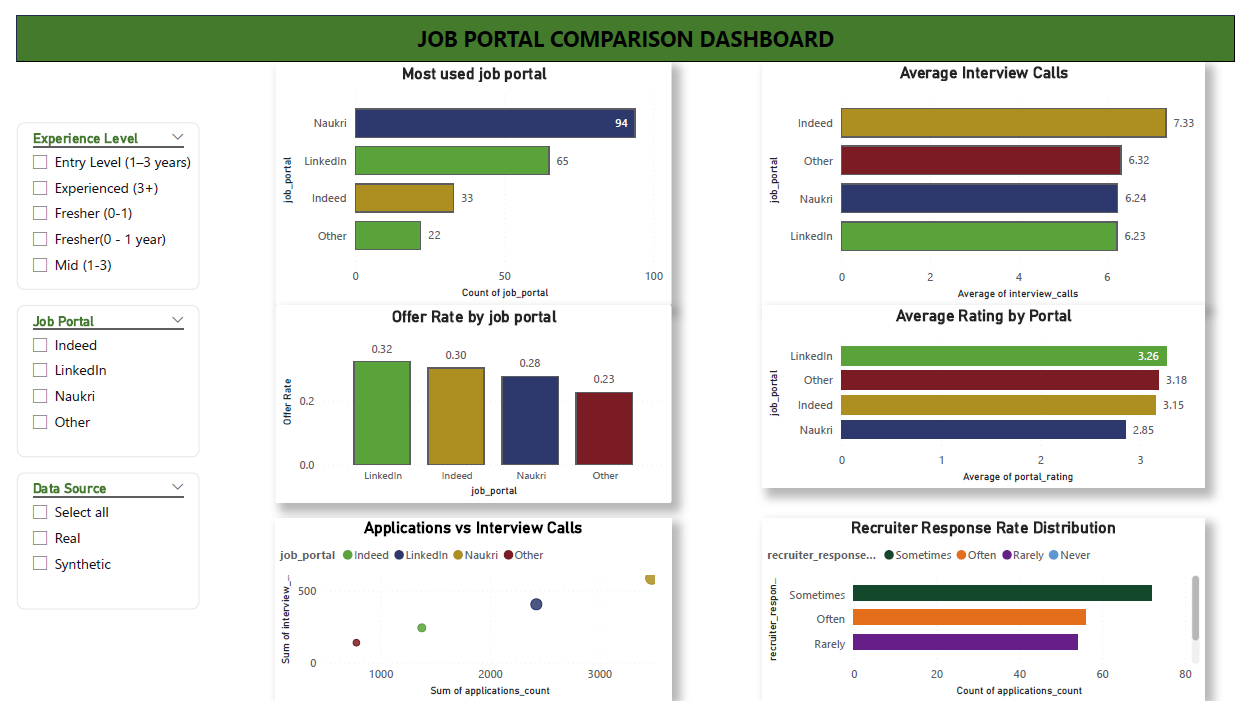

The dashboard page shown, as its layout file describes it:
{"tool":"powerbi","page":{"name":"Page 1","canvas":[1280,720],"ordinal":0},"visuals":[{"type":"clusteredBarChart","title":"Most used job portal","fields":{"Category":["job_portal_real_plus_synthetic.job_portal"],"Y":["CountNonNull(job_portal_real_plus_synthetic.job_portal)"]},"box":[272,48,416,256],"z":0},{"type":"clusteredBarChart","title":"Average Interview Calls","fields":{"Category":["job_portal_real_plus_synthetic.job_portal"],"Y":["Avg(job_portal_real_plus_synthetic.interview_calls)"]},"box":[784,48,464,256],"z":1000},{"type":"clusteredColumnChart","title":"Offer Rate by job portal","fields":{"Category":["job_portal_real_plus_synthetic.job_portal"],"Y":["job_portal_real_plus_synthetic.Offer Rate"]},"box":[272,304,416,208],"z":2000},{"type":"clusteredBarChart","title":"Average Rating by Portal","fields":{"Category":["job_portal_real_plus_synthetic.job_portal"],"Y":["Avg(job_portal_real_plus_synthetic.portal_rating)"]},"box":[784,304,464,192],"z":3000},{"type":"scatterChart","title":"Applications vs Interview Calls","fields":{"X":["Sum(job_portal_real_plus_synthetic.applications_count)"],"Y":["Sum(job_portal_real_plus_synthetic.interview_calls)"],"Series":["job_portal_real_plus_synthetic.job_portal"],"Size":["Sum(job_portal_real_plus_synthetic.portal_rating)"]},"box":[272,528,416,192],"z":4000},{"type":"barChart","title":"Recruiter Response Rate Distribution","fields":{"Category":["job_portal_real_plus_synthetic.recruiter_response_rate"],"Y":["CountNonNull(job_portal_real_plus_synthetic.applications_count)"],"Series":["job_portal_real_plus_synthetic.recruiter_response_rate"]},"box":[784,528,464,192],"z":5000},{"type":"slicer","fields":{"Values":["job_portal_real_plus_synthetic.experience_level"]},"box":[0,112,192,176],"z":6000},{"type":"slicer","fields":{"Values":["job_portal_real_plus_synthetic.job_portal"]},"box":[0,304,192,160],"z":7000},{"type":"slicer","fields":{"Values":["job_portal_real_plus_synthetic.data_source"]},"box":[0,480,192,144],"z":8000},{"type":"shape","box":[0,0,1280,48],"z":14000}]}

Visuals, with their boxes in screenshot pixels (x1, y1, x2, y2), scaled from the page's 1280x720 canvas onto the 1248x720 screenshot:
"Most used job portal" clusteredBarChart: 265:48:671:304
"Average Interview Calls" clusteredBarChart: 764:48:1217:304
"Offer Rate by job portal" clusteredColumnChart: 265:304:671:512
"Average Rating by Portal" clusteredBarChart: 764:304:1217:496
"Applications vs Interview Calls" scatterChart: 265:528:671:719
"Recruiter Response Rate Distribution" barChart: 764:528:1217:719
slicer - job_portal_real_plus_synthetic.experience_level: 0:112:187:288
slicer - job_portal_real_plus_synthetic.job_portal: 0:304:187:464
slicer - job_portal_real_plus_synthetic.data_source: 0:480:187:624
shape: 0:0:1247:48
